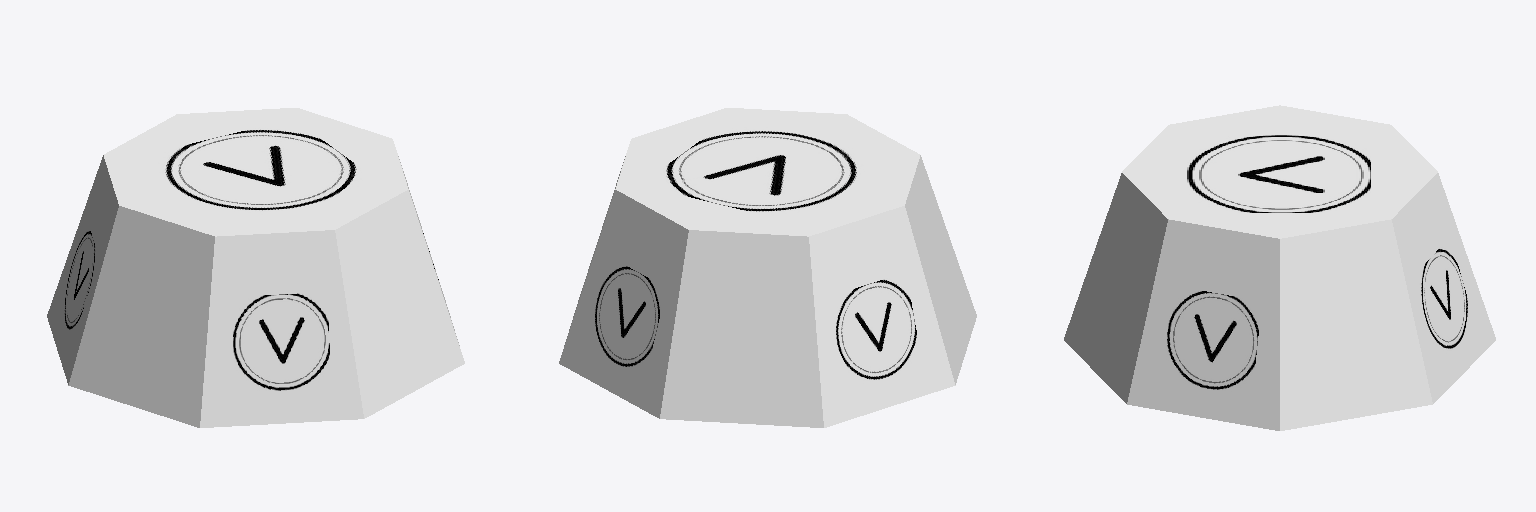
The picture shows the model from 3 angles: view 1: azimuth 30°, elevation 25°; view 2: azimuth 150°, elevation 25°; view 3: azimuth 270°, elevation 25°; orthographic projection.
Visible parts, largest first — view 1: Mesh1 Model; view 2: Mesh1 Model; view 3: Mesh1 Model.
Boxes of the visible parts, box(x1,y1,x2,y2) form: Mesh1 Model: box(47, 108, 464, 427); Mesh1 Model: box(559, 108, 976, 427); Mesh1 Model: box(1064, 105, 1495, 430).
Size of the model in its own units: 4.27 by 1.83 by 4.27.
Materials: 4 (1 with a texture image).